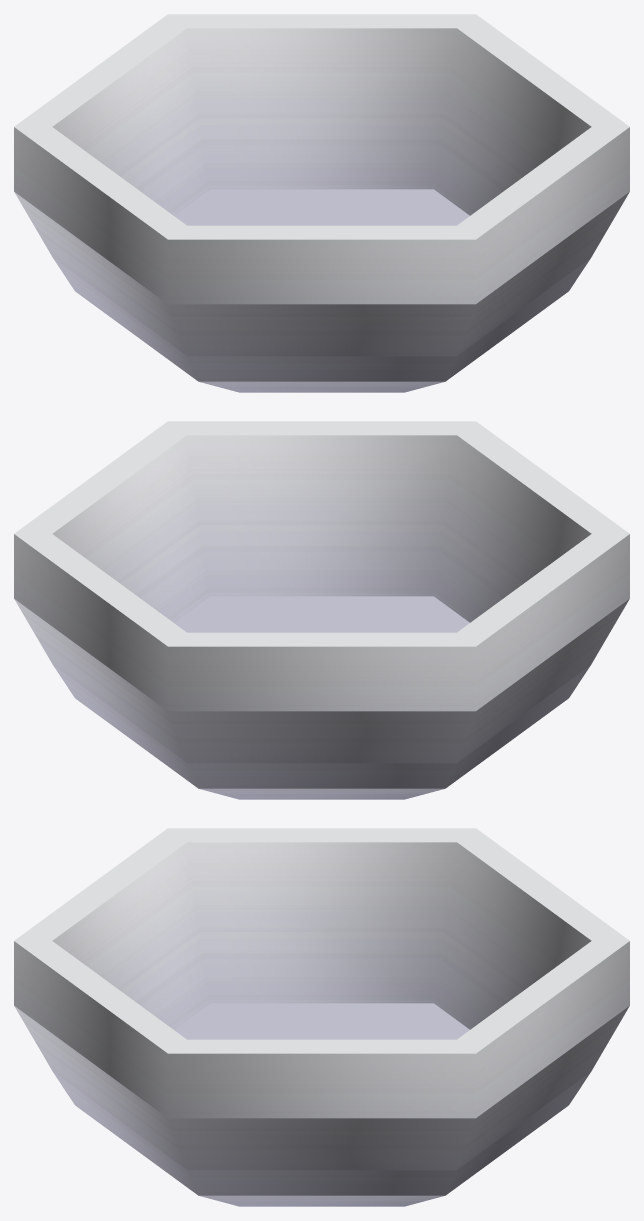
File: food-bowl.glb
3 renders of one model, top to bottom at view 1: azimuth 30°, elevation 25°; view 2: azimuth 150°, elevation 25°; view 3: azimuth 270°, elevation 25°, orthographic.
Visible parts, largest first — view 1: bowl; view 2: bowl; view 3: bowl.
Part boxes in pixels (<box>): bowl: <box>14,14,629,392</box>; bowl: <box>14,421,629,799</box>; bowl: <box>14,828,629,1206</box>.
Size of the model in its own units: 0.5022 by 0.2139 by 0.5798.
1 material, 1 textured.
